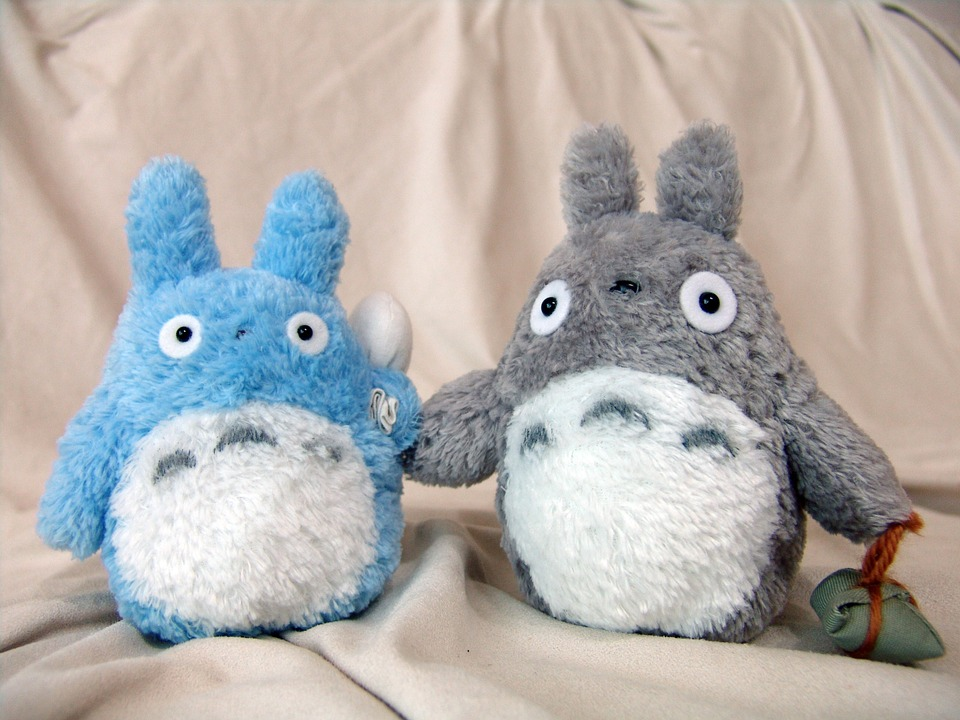Totoro: (410, 114, 938, 641)
